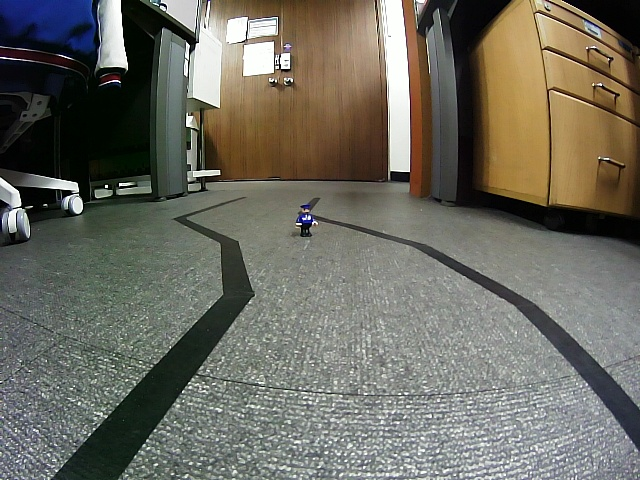person: (294, 204, 318, 237)
